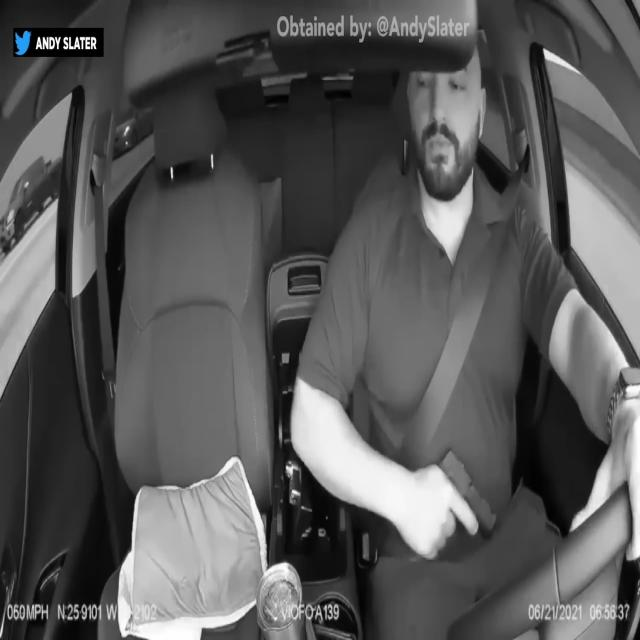senjata_api: (439, 445, 499, 540)
